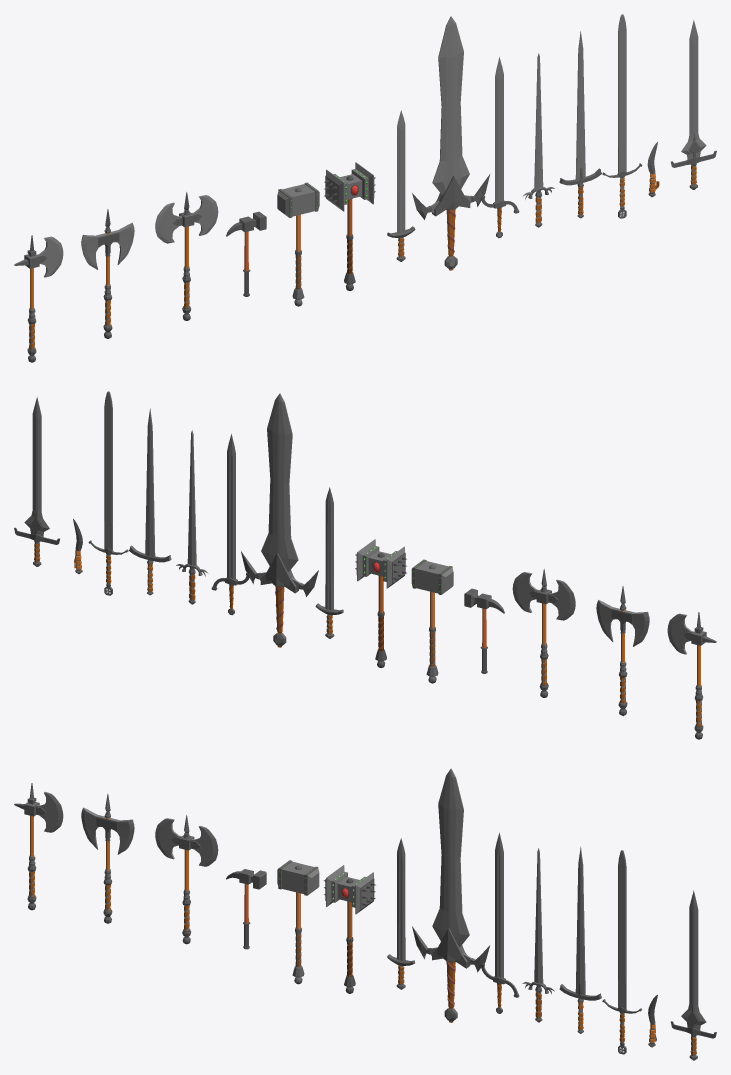
File: WEAPONS.fbx
3 renders of one model, top to bottom at view 1: azimuth 30°, elevation 25°; view 2: azimuth 150°, elevation 25°; view 3: azimuth 330°, elevation 25°, orthographic.
Visible parts, largest first — view 1: Sword.006, Axe.001, Hammer, Sword, Axe.002, Sword.003, Hammer.003, Sword.005, Sword.002, Axe, Sword.004, Sword.001 (+1 smaller); view 2: Sword.006, Axe.001, Hammer, Sword, Axe.002, Hammer.003, Sword.003, Sword.005, Sword.002, Axe, Sword.004, Sword.001 (+1 smaller); view 3: Sword.006, Axe.001, Hammer, Sword, Axe.002, Sword.003, Hammer.003, Sword.005, Sword.002, Axe, Sword.004, Sword.001 (+1 smaller).
Boxes of the visible parts, x1,y1,x2,y2 form: Sword.006: (412,16,489,270); Axe.001: (155,192,218,320); Hammer: (324,162,375,290); Sword: (671,20,716,189); Axe.002: (81,209,134,338); Sword.003: (602,14,642,218); Hammer.003: (277,182,319,306); Sword.005: (481,57,519,238); Sword.002: (559,31,601,218); Axe: (14,235,63,362); Sword.004: (387,110,415,261); Sword.001: (522,53,554,227); Sword.006: (241,393,318,647); Axe.001: (512,569,575,697); Hammer: (355,539,406,667); Sword: (14,397,59,566); Axe.002: (596,586,649,716); Hammer.003: (411,559,453,683); Sword.003: (88,391,128,595); Sword.005: (211,434,249,615); Sword.002: (129,408,171,595); Axe: (667,612,716,739); Sword.004: (315,487,343,638); Sword.001: (176,430,208,604); Sword.006: (412,768,489,1022); Axe.001: (155,815,218,944); Hammer: (323,865,375,993); Sword: (670,890,716,1060); Axe.002: (81,793,134,923); Sword.003: (602,850,642,1054); Hammer.003: (277,860,319,984); Sword.005: (480,832,519,1013); Sword.002: (559,846,601,1033); Axe: (14,783,63,910); Sword.004: (387,838,415,989); Sword.001: (522,848,554,1022).
Bounding box in the file's own units: 1017 × 351 × 44.42.
